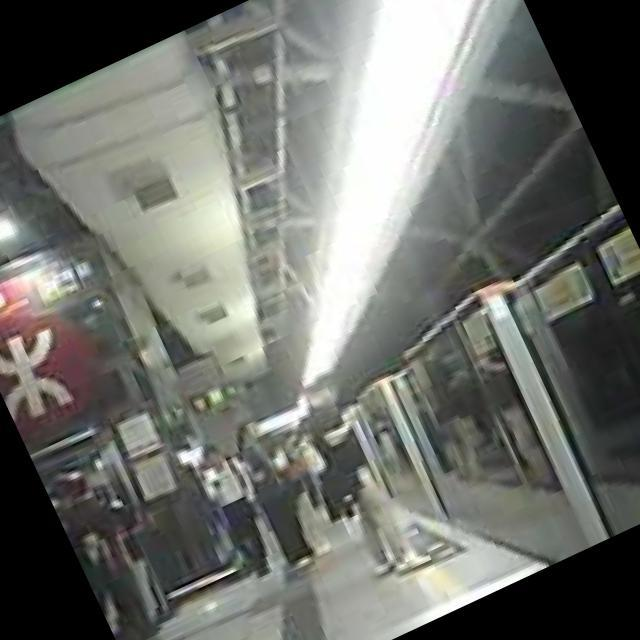person: (277, 373, 428, 589), (226, 415, 332, 574), (186, 434, 290, 584)
